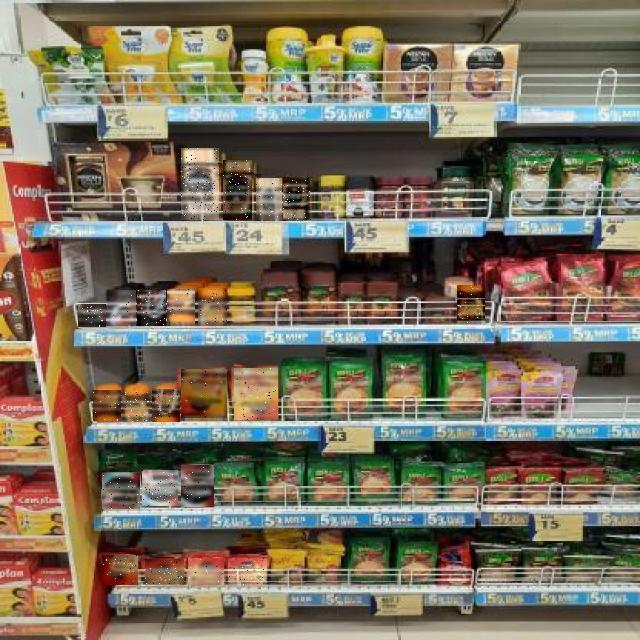Coffee: (181, 149, 219, 221), (181, 370, 227, 420), (234, 368, 278, 420), (223, 160, 252, 220), (181, 465, 214, 507), (102, 473, 140, 509), (142, 471, 178, 507), (284, 177, 312, 220), (198, 288, 227, 326), (256, 178, 282, 220), (102, 555, 138, 585), (457, 286, 485, 324), (228, 558, 267, 585), (137, 291, 166, 327), (107, 291, 136, 327), (167, 290, 195, 326), (145, 559, 184, 584), (188, 558, 224, 585), (152, 389, 180, 422), (122, 389, 150, 422), (93, 390, 121, 421), (79, 304, 107, 327)
